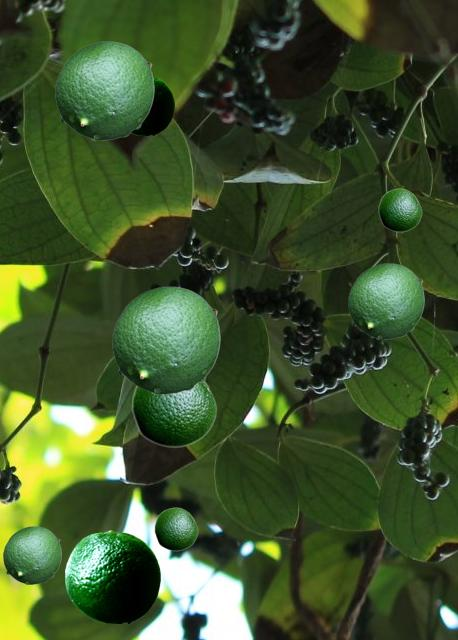calamansi: (112, 286, 219, 393), (55, 41, 153, 139), (65, 530, 159, 622), (348, 263, 423, 338), (131, 381, 216, 447), (3, 526, 60, 583), (131, 76, 173, 134), (154, 507, 197, 550), (378, 188, 421, 231)
